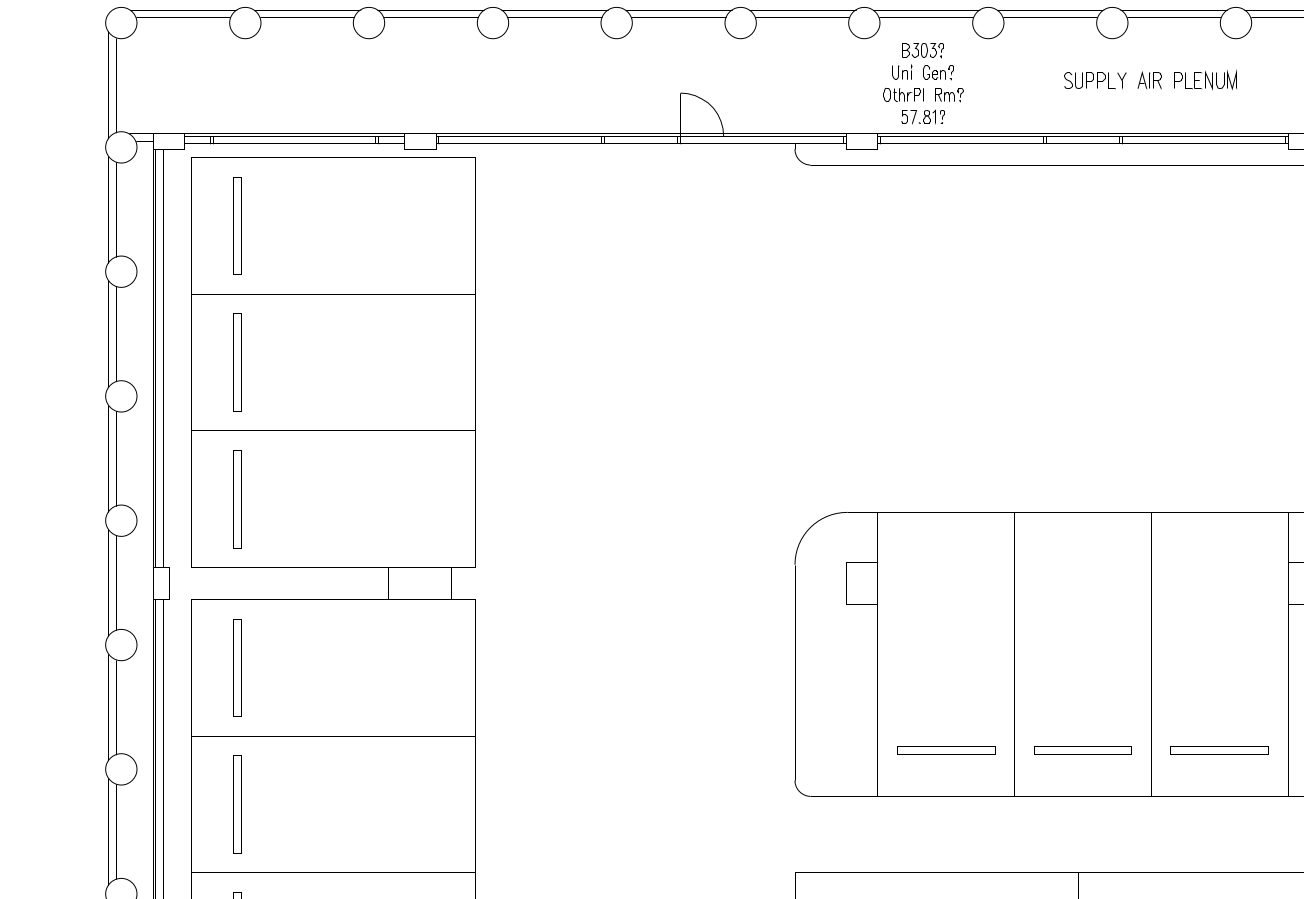door: (672, 86, 733, 139)
